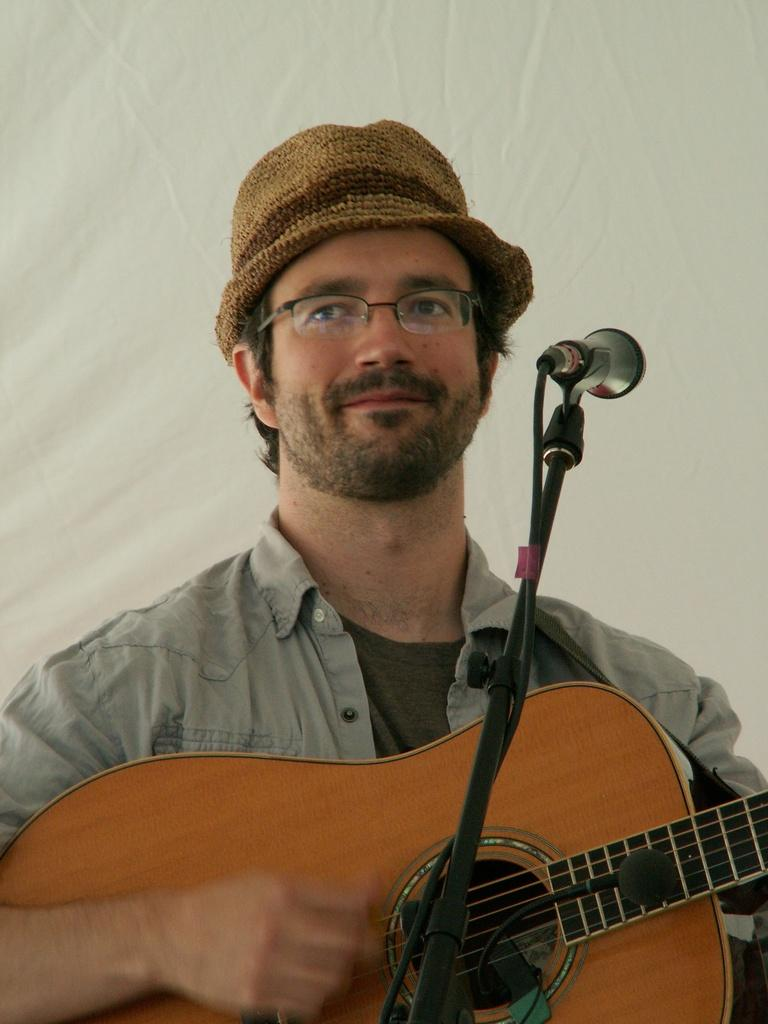Hat: (212, 114, 534, 373)
